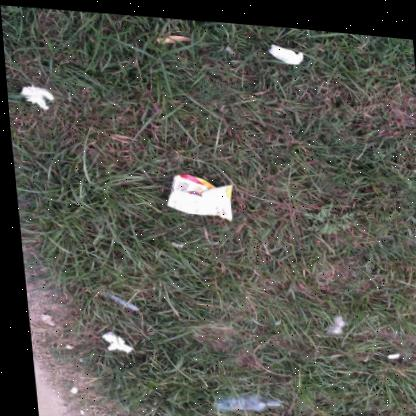Plastic: (162, 169, 229, 216), (208, 388, 273, 406), (99, 288, 133, 308), (267, 38, 302, 57), (223, 38, 235, 51)
Waste: (17, 85, 50, 107), (95, 329, 126, 350), (381, 345, 393, 350), (71, 407, 76, 412)
